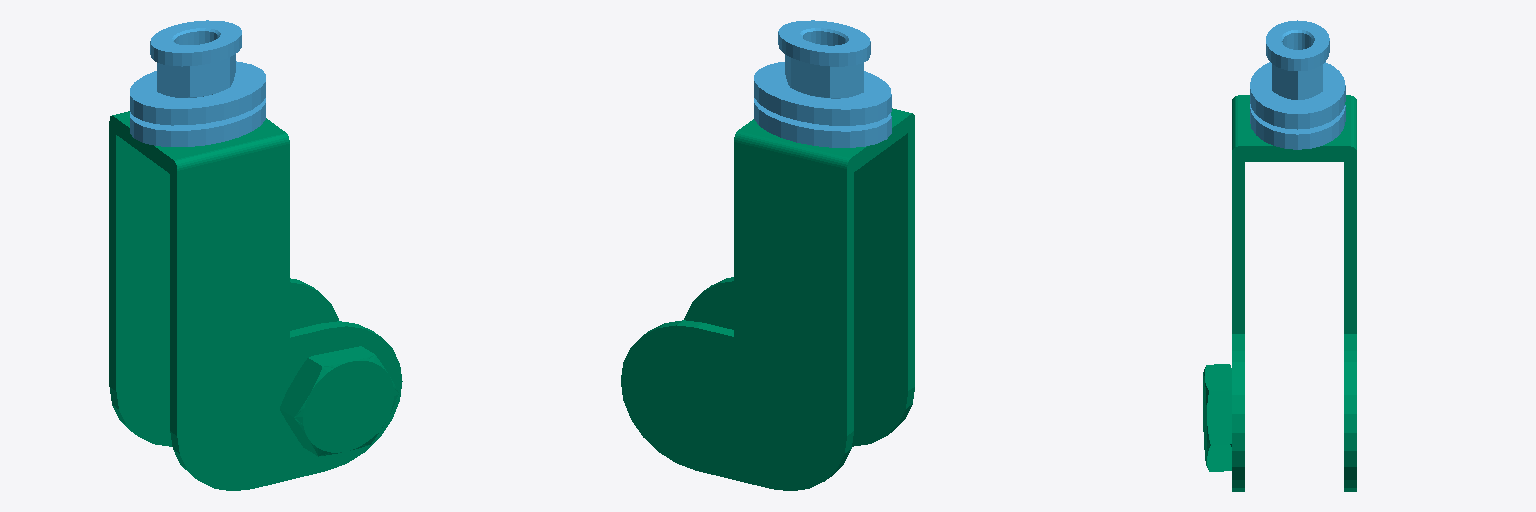
--- What the picture shows (computed from the rendered views, not written in the file) ---
3 views of the same robot in one strip: view 1: azimuth 30°, elevation 25°; view 2: azimuth 150°, elevation 25°; view 3: azimuth 270°, elevation 25° (orthographic).
Model partnet_464e9b98-d955-4597-b746-4e8b73eab34b with 3 links and 2 joints (1 prismatic, 1 fixed), rooted at base, posed every joint at zero.
Visible links, largest first — view 1: link_1, link_0; view 2: link_1, link_0; view 3: link_1, link_0.
Link boxes in pixels (x1,y1,x2,y2): link_1: [109, 111, 402, 490]; link_0: [130, 20, 265, 146]; link_1: [621, 108, 914, 490]; link_0: [754, 20, 891, 147]; link_1: [1203, 95, 1356, 491]; link_0: [1250, 20, 1345, 149].
Size in the robot's own frame: 0.1111 by 0.069 by 0.1967 metres.
5 mesh visuals loaded from 6 distinct referenced files (5 OBJ); not drawn: 1 (reference not matched to a file when rendering).

URDF robot description (partnet_464e9b98-d955-4597-b746-4e8b73eab34b):
<robot name="partnet_464e9b98-d955-4597-b746-4e8b73eab34b">
	<link name="base" />
	<link name="link_0">
		<collision>
			<origin xyz="0 0 0" />
			<geometry>
				<mesh filename="new5_objs/lid-1-0.obj" />
			</geometry>
		</collision>
		<collision>
			<origin xyz="0 0 0" />
			<geometry>
				<mesh filename="new5_objs/lid-1-1.obj" />
			</geometry>
		</collision>
		<collision>
			<origin xyz="0 0 0" />
			<geometry>
				<mesh filename="new5_objs/lid-1-2.obj" />
			</geometry>
		</collision>
		<collision>
			<origin xyz="0 0 0" />
			<geometry>
				<mesh filename="new5_objs/lid-1-3.obj" />
			</geometry>
		</collision>
		<collision>
			<origin xyz="0 0 0" />
			<geometry>
				<mesh filename="new5_objs/lid-1-4.obj" />
			</geometry>
		</collision>
		<collision>
			<origin xyz="0 0 0" />
			<geometry>
				<mesh filename="new5_objs/lid-1-5.obj" />
			</geometry>
		</collision>
		<collision>
			<origin xyz="0 0 0" />
			<geometry>
				<mesh filename="new5_objs/lid-1-6.obj" />
			</geometry>
		</collision>
		<collision>
			<origin xyz="0 0 0" />
			<geometry>
				<mesh filename="new5_objs/lid-1-7.obj" />
			</geometry>
		</collision>
		<collision>
			<origin xyz="0 0 0" />
			<geometry>
				<mesh filename="new5_objs/lid-1-8.obj" />
			</geometry>
		</collision>
		<collision>
			<origin xyz="0 0 0" />
			<geometry>
				<mesh filename="new5_objs/lid-1-9.obj" />
			</geometry>
		</collision>
		<collision>
			<origin xyz="0 0 0" />
			<geometry>
				<mesh filename="new5_objs/lid-1-10.obj" />
			</geometry>
		</collision>
		<collision>
			<origin xyz="0 0 0" />
			<geometry>
				<mesh filename="new5_objs/lid-1-11.obj" />
			</geometry>
		</collision>
		<collision>
			<origin xyz="0 0 0" />
			<geometry>
				<mesh filename="new5_objs/lid-1-12.obj" />
			</geometry>
		</collision>
		<collision>
			<origin xyz="0 0 0" />
			<geometry>
				<mesh filename="new5_objs/lid-1-13.obj" />
			</geometry>
		</collision>
		<collision>
			<origin xyz="0 0 0" />
			<geometry>
				<mesh filename="new5_objs/lid-1-14.obj" />
			</geometry>
		</collision>
		<collision>
			<origin xyz="0 0 0" />
			<geometry>
				<mesh filename="new5_objs/lid-1-15.obj" />
			</geometry>
		</collision>
		<collision>
			<origin xyz="0 0 0" />
			<geometry>
				<mesh filename="new5_objs/lid-1-16.obj" />
			</geometry>
		</collision>
		<collision>
			<origin xyz="0 0 0" />
			<geometry>
				<mesh filename="new5_objs/lid-1-17.obj" />
			</geometry>
		</collision>
		<collision>
			<origin xyz="0 0 0" />
			<geometry>
				<mesh filename="new5_objs/lid-1-18.obj" />
			</geometry>
		</collision>
		<collision>
			<origin xyz="0 0 0" />
			<geometry>
				<mesh filename="new5_objs/lid-1-19.obj" />
			</geometry>
		</collision>
		<collision>
			<origin xyz="0 0 0" />
			<geometry>
				<mesh filename="new5_objs/lid-1-20.obj" />
			</geometry>
		</collision>
		<collision>
			<origin xyz="0 0 0" />
			<geometry>
				<mesh filename="new5_objs/lid-1-21.obj" />
			</geometry>
		</collision>
		<collision>
			<origin xyz="0 0 0" />
			<geometry>
				<mesh filename="new5_objs/lid-1-22.obj" />
			</geometry>
		</collision>
		<collision>
			<origin xyz="0 0 0" />
			<geometry>
				<mesh filename="new5_objs/lid-1-23.obj" />
			</geometry>
		</collision>
		<collision>
			<origin xyz="0 0 0" />
			<geometry>
				<mesh filename="new5_objs/lid-1-24.obj" />
			</geometry>
		</collision>
		<collision>
			<origin xyz="0 0 0" />
			<geometry>
				<mesh filename="new5_objs/lid-1-25.obj" />
			</geometry>
		</collision>
		<collision>
			<origin xyz="0 0 0" />
			<geometry>
				<mesh filename="new5_objs/lid-1-26.obj" />
			</geometry>
		</collision>
		<collision>
			<origin xyz="0 0 0" />
			<geometry>
				<mesh filename="new5_objs/lid-1-27.obj" />
			</geometry>
		</collision>
		<collision>
			<origin xyz="0 0 0" />
			<geometry>
				<mesh filename="new5_objs/lid-1-28.obj" />
			</geometry>
		</collision>
		<collision>
			<origin xyz="0 0 0" />
			<geometry>
				<mesh filename="new5_objs/lid-1-29.obj" />
			</geometry>
		</collision>
		<collision>
			<origin xyz="0 0 0" />
			<geometry>
				<mesh filename="new5_objs/lid-1-30.obj" />
			</geometry>
		</collision>
		<collision>
			<origin xyz="0 0 0" />
			<geometry>
				<mesh filename="new5_objs/lid-1-31.obj" />
			</geometry>
		</collision>
		<collision>
			<origin xyz="0 0 0" />
			<geometry>
				<mesh filename="new5_objs/lid-1-32.obj" />
			</geometry>
		</collision>
		<collision>
			<origin xyz="0 0 0" />
			<geometry>
				<mesh filename="new5_objs/lid-1-33.obj" />
			</geometry>
		</collision>
		<collision>
			<origin xyz="0 0 0" />
			<geometry>
				<mesh filename="new5_objs/lid-1-34.obj" />
			</geometry>
		</collision>
		<collision>
			<origin xyz="0 0 0" />
			<geometry>
				<mesh filename="new5_objs/lid-1-35.obj" />
			</geometry>
		</collision>
		<collision>
			<origin xyz="0 0 0" />
			<geometry>
				<mesh filename="new5_objs/lid-1-36.obj" />
			</geometry>
		</collision>
		<collision>
			<origin xyz="0 0 0" />
			<geometry>
				<mesh filename="new5_objs/lid-1-37.obj" />
			</geometry>
		</collision>
		<collision>
			<origin xyz="0 0 0" />
			<geometry>
				<mesh filename="new5_objs/lid-1-38.obj" />
			</geometry>
		</collision>
		<collision>
			<origin xyz="0 0 0" />
			<geometry>
				<mesh filename="new5_objs/lid-1-39.obj" />
			</geometry>
		</collision>
		<collision>
			<origin xyz="0 0 0" />
			<geometry>
				<mesh filename="new5_objs/lid-1-40.obj" />
			</geometry>
		</collision>
		<collision>
			<origin xyz="0 0 0" />
			<geometry>
				<mesh filename="new5_objs/lid-1-41.obj" />
			</geometry>
		</collision>
		<collision>
			<origin xyz="0 0 0" />
			<geometry>
				<mesh filename="new5_objs/lid-1-42.obj" />
			</geometry>
		</collision>
		<collision>
			<origin xyz="0 0 0" />
			<geometry>
				<mesh filename="new5_objs/lid-1-43.obj" />
			</geometry>
		</collision>
		<collision>
			<origin xyz="0 0 0" />
			<geometry>
				<mesh filename="new5_objs/lid-1-44.obj" />
			</geometry>
		</collision>
		<collision>
			<origin xyz="0 0 0" />
			<geometry>
				<mesh filename="new5_objs/lid-1-45.obj" />
			</geometry>
		</collision>
		<collision>
			<origin xyz="0 0 0" />
			<geometry>
				<mesh filename="new5_objs/lid-1-46.obj" />
			</geometry>
		</collision>
		<collision>
			<origin xyz="0 0 0" />
			<geometry>
				<mesh filename="new5_objs/lid-1-47.obj" />
			</geometry>
		</collision>
		<collision>
			<origin xyz="0 0 0" />
			<geometry>
				<mesh filename="new5_objs/lid-1-48.obj" />
			</geometry>
		</collision>
		<collision>
			<origin xyz="0 0 0" />
			<geometry>
				<mesh filename="new5_objs/lid-1-49.obj" />
			</geometry>
		</collision>
		<collision>
			<origin xyz="0 0 0" />
			<geometry>
				<mesh filename="new5_objs/lid-1-50.obj" />
			</geometry>
		</collision>
		<collision>
			<origin xyz="0 0 0" />
			<geometry>
				<mesh filename="new5_objs/lid-1-51.obj" />
			</geometry>
		</collision>
		<collision>
			<origin xyz="0 0 0" />
			<geometry>
				<mesh filename="new5_objs/lid-1-52.obj" />
			</geometry>
		</collision>
		<collision>
			<origin xyz="0 0 0" />
			<geometry>
				<mesh filename="new5_objs/lid-1-53.obj" />
			</geometry>
		</collision>
		<collision>
			<origin xyz="0 0 0" />
			<geometry>
				<mesh filename="new5_objs/lid-1-54.obj" />
			</geometry>
		</collision>
		<collision>
			<origin xyz="0 0 0" />
			<geometry>
				<mesh filename="new5_objs/lid-1-55.obj" />
			</geometry>
		</collision>
		<collision>
			<origin xyz="0 0 0" />
			<geometry>
				<mesh filename="new5_objs/lid-1-56.obj" />
			</geometry>
		</collision>
		<collision>
			<origin xyz="0 0 0" />
			<geometry>
				<mesh filename="new5_objs/lid-1-57.obj" />
			</geometry>
		</collision>
		<collision>
			<origin xyz="0 0 0" />
			<geometry>
				<mesh filename="new5_objs/lid-1-58.obj" />
			</geometry>
		</collision>
		<collision>
			<origin xyz="0 0 0" />
			<geometry>
				<mesh filename="new5_objs/lid-1-59.obj" />
			</geometry>
		</collision>
		<collision>
			<origin xyz="0 0 0" />
			<geometry>
				<mesh filename="new5_objs/lid-1-60.obj" />
			</geometry>
		</collision>
		<collision>
			<origin xyz="0 0 0" />
			<geometry>
				<mesh filename="new5_objs/lid-1-61.obj" />
			</geometry>
		</collision>
		<collision>
			<origin xyz="0 0 0" />
			<geometry>
				<mesh filename="new5_objs/lid-1-62.obj" />
			</geometry>
		</collision>
		<collision>
			<origin xyz="0 0 0" />
			<geometry>
				<mesh filename="new5_objs/lid-1-63.obj" />
			</geometry>
		</collision>
		<collision>
			<origin xyz="0 0 0" />
			<geometry>
				<mesh filename="new5_objs/lid-1-64.obj" />
			</geometry>
		</collision>
		<collision>
			<origin xyz="0 0 0" />
			<geometry>
				<mesh filename="new5_objs/lid-1-65.obj" />
			</geometry>
		</collision>
		<collision>
			<origin xyz="0 0 0" />
			<geometry>
				<mesh filename="new5_objs/lid-1-66.obj" />
			</geometry>
		</collision>
		<collision>
			<origin xyz="0 0 0" />
			<geometry>
				<mesh filename="new5_objs/lid-1-67.obj" />
			</geometry>
		</collision>
		<collision>
			<origin xyz="0 0 0" />
			<geometry>
				<mesh filename="new5_objs/lid-1-68.obj" />
			</geometry>
		</collision>
		<collision>
			<origin xyz="0 0 0" />
			<geometry>
				<mesh filename="new5_objs/lid-1-69.obj" />
			</geometry>
		</collision>
		<collision>
			<origin xyz="0 0 0" />
			<geometry>
				<mesh filename="new5_objs/lid-1-70.obj" />
			</geometry>
		</collision>
		<collision>
			<origin xyz="0 0 0" />
			<geometry>
				<mesh filename="new5_objs/lid-1-71.obj" />
			</geometry>
		</collision>
		<collision>
			<origin xyz="0 0 0" />
			<geometry>
				<mesh filename="new5_objs/lid-1-72.obj" />
			</geometry>
		</collision>
		<collision>
			<origin xyz="0 0 0" />
			<geometry>
				<mesh filename="new5_objs/lid-1-73.obj" />
			</geometry>
		</collision>
		<collision>
			<origin xyz="0 0 0" />
			<geometry>
				<mesh filename="new5_objs/lid-1-74.obj" />
			</geometry>
		</collision>
		<collision>
			<origin xyz="0 0 0" />
			<geometry>
				<mesh filename="new5_objs/lid-1-75.obj" />
			</geometry>
		</collision>
		<collision>
			<origin xyz="0 0 0" />
			<geometry>
				<mesh filename="new5_objs/lid-1-76.obj" />
			</geometry>
		</collision>
		<collision>
			<origin xyz="0 0 0" />
			<geometry>
				<mesh filename="new5_objs/lid-1-77.obj" />
			</geometry>
		</collision>
		<collision>
			<origin xyz="0 0 0" />
			<geometry>
				<mesh filename="new5_objs/lid-1-78.obj" />
			</geometry>
		</collision>
		<collision>
			<origin xyz="0 0 0" />
			<geometry>
				<mesh filename="new5_objs/lid-1-79.obj" />
			</geometry>
		</collision>
		<collision>
			<origin xyz="0 0 0" />
			<geometry>
				<mesh filename="new5_objs/lid-1-80.obj" />
			</geometry>
		</collision>
		<collision>
			<origin xyz="0 0 0" />
			<geometry>
				<mesh filename="new5_objs/lid-1-81.obj" />
			</geometry>
		</collision>
		<collision>
			<origin xyz="0 0 0" />
			<geometry>
				<mesh filename="new5_objs/lid-1-82.obj" />
			</geometry>
		</collision>
		<collision>
			<origin xyz="0 0 0" />
			<geometry>
				<mesh filename="new5_objs/lid-1-83.obj" />
			</geometry>
		</collision>
		<collision>
			<origin xyz="0 0 0" />
			<geometry>
				<mesh filename="new5_objs/lid-1-84.obj" />
			</geometry>
		</collision>
		<collision>
			<origin xyz="0 0 0" />
			<geometry>
				<mesh filename="new5_objs/lid-1-85.obj" />
			</geometry>
		</collision>
		<collision>
			<origin xyz="0 0 0" />
			<geometry>
				<mesh filename="new5_objs/lid-1-86.obj" />
			</geometry>
		</collision>
		<collision>
			<origin xyz="0 0 0" />
			<geometry>
				<mesh filename="new5_objs/lid-1-87.obj" />
			</geometry>
		</collision>
		<collision>
			<origin xyz="0 0 0" />
			<geometry>
				<mesh filename="new5_objs/lid-1-88.obj" />
			</geometry>
		</collision>
		<collision>
			<origin xyz="0 0 0" />
			<geometry>
				<mesh filename="new5_objs/lid-1-89.obj" />
			</geometry>
		</collision>
		<collision>
			<origin xyz="0 0 0" />
			<geometry>
				<mesh filename="new5_objs/lid-1-90.obj" />
			</geometry>
		</collision>
		<collision>
			<origin xyz="0 0 0" />
			<geometry>
				<mesh filename="new5_objs/lid-1-91.obj" />
			</geometry>
		</collision>
		<collision>
			<origin xyz="0 0 0" />
			<geometry>
				<mesh filename="new5_objs/lid-1-92.obj" />
			</geometry>
		</collision>
		<collision>
			<origin xyz="0 0 0" />
			<geometry>
				<mesh filename="new5_objs/lid-1-93.obj" />
			</geometry>
		</collision>
		<collision>
			<origin xyz="0 0 0" />
			<geometry>
				<mesh filename="new5_objs/lid-1-94.obj" />
			</geometry>
		</collision>
		<collision>
			<origin xyz="0 0 0" />
			<geometry>
				<mesh filename="new5_objs/lid-1-95.obj" />
			</geometry>
		</collision>
		<collision>
			<origin xyz="0 0 0" />
			<geometry>
				<mesh filename="new5_objs/lid-1-96.obj" />
			</geometry>
		</collision>
		<collision>
			<origin xyz="0 0 0" />
			<geometry>
				<mesh filename="new5_objs/lid-1-97.obj" />
			</geometry>
		</collision>
		<collision>
			<origin xyz="0 0 0" />
			<geometry>
				<mesh filename="new5_objs/lid-1-98.obj" />
			</geometry>
		</collision>
		<collision>
			<origin xyz="0 0 0" />
			<geometry>
				<mesh filename="new5_objs/lid-1-99.obj" />
			</geometry>
		</collision>
		<collision>
			<origin xyz="0 0 0" />
			<geometry>
				<mesh filename="new5_objs/lid-1-100.obj" />
			</geometry>
		</collision>
		<collision>
			<origin xyz="0 0 0" />
			<geometry>
				<mesh filename="new5_objs/lid-1-101.obj" />
			</geometry>
		</collision>
		<collision>
			<origin xyz="0 0 0" />
			<geometry>
				<mesh filename="new5_objs/lid-1-102.obj" />
			</geometry>
		</collision>
		<collision>
			<origin xyz="0 0 0" />
			<geometry>
				<mesh filename="new5_objs/lid-1-103.obj" />
			</geometry>
		</collision>
		<collision>
			<origin xyz="0 0 0" />
			<geometry>
				<mesh filename="new5_objs/lid-1-104.obj" />
			</geometry>
		</collision>
		<collision>
			<origin xyz="0 0 0" />
			<geometry>
				<mesh filename="new5_objs/lid-1-105.obj" />
			</geometry>
		</collision>
		<collision>
			<origin xyz="0 0 0" />
			<geometry>
				<mesh filename="new5_objs/lid-1-106.obj" />
			</geometry>
		</collision>
		<collision>
			<origin xyz="0 0 0" />
			<geometry>
				<mesh filename="new5_objs/lid-1-107.obj" />
			</geometry>
		</collision>
		<collision>
			<origin xyz="0 0 0" />
			<geometry>
				<mesh filename="new5_objs/lid-1-108.obj" />
			</geometry>
		</collision>
		<collision>
			<origin xyz="0 0 0" />
			<geometry>
				<mesh filename="new5_objs/lid-1-109.obj" />
			</geometry>
		</collision>
		<collision>
			<origin xyz="0 0 0" />
			<geometry>
				<mesh filename="new5_objs/lid-1-110.obj" />
			</geometry>
		</collision>
		<collision>
			<origin xyz="0 0 0" />
			<geometry>
				<mesh filename="new5_objs/lid-1-111.obj" />
			</geometry>
		</collision>
		<collision>
			<origin xyz="0 0 0" />
			<geometry>
				<mesh filename="new5_objs/lid-1-112.obj" />
			</geometry>
		</collision>
		<collision>
			<origin xyz="0 0 0" />
			<geometry>
				<mesh filename="new5_objs/lid-1-113.obj" />
			</geometry>
		</collision>
		<collision>
			<origin xyz="0 0 0" />
			<geometry>
				<mesh filename="new5_objs/lid-1-114.obj" />
			</geometry>
		</collision>
		<collision>
			<origin xyz="0 0 0" />
			<geometry>
				<mesh filename="new5_objs/lid-1-115.obj" />
			</geometry>
		</collision>
		<collision>
			<origin xyz="0 0 0" />
			<geometry>
				<mesh filename="new5_objs/lid-1-116.obj" />
			</geometry>
		</collision>
		<collision>
			<origin xyz="0 0 0" />
			<geometry>
				<mesh filename="new5_objs/lid-1-117.obj" />
			</geometry>
		</collision>
		<collision>
			<origin xyz="0 0 0" />
			<geometry>
				<mesh filename="new5_objs/lid-1-118.obj" />
			</geometry>
		</collision>
		<collision>
			<origin xyz="0 0 0" />
			<geometry>
				<mesh filename="new5_objs/lid-1-119.obj" />
			</geometry>
		</collision>
		<collision>
			<origin xyz="0 0 0" />
			<geometry>
				<mesh filename="new5_objs/lid-1-120.obj" />
			</geometry>
		</collision>
		<collision>
			<origin xyz="0 0 0" />
			<geometry>
				<mesh filename="new5_objs/lid-1-121.obj" />
			</geometry>
		</collision>
		<collision>
			<origin xyz="0 0 0" />
			<geometry>
				<mesh filename="new5_objs/lid-1-122.obj" />
			</geometry>
		</collision>
		<collision>
			<origin xyz="0 0 0" />
			<geometry>
				<mesh filename="new5_objs/lid-1-123.obj" />
			</geometry>
		</collision>
		<collision>
			<origin xyz="0 0 0" />
			<geometry>
				<mesh filename="new5_objs/lid-1-124.obj" />
			</geometry>
		</collision>
		<collision>
			<origin xyz="0 0 0" />
			<geometry>
				<mesh filename="new5_objs/lid-1-125.obj" />
			</geometry>
		</collision>
		<collision>
			<origin xyz="0 0 0" />
			<geometry>
				<mesh filename="new5_objs/lid-1-126.obj" />
			</geometry>
		</collision>
		<collision>
			<origin xyz="0 0 0" />
			<geometry>
				<mesh filename="new5_objs/lid-1-127.obj" />
			</geometry>
		</collision>
		<collision>
			<origin xyz="0 0 0" />
			<geometry>
				<mesh filename="new5_objs/lid-1-128.obj" />
			</geometry>
		</collision>
		<collision>
			<origin xyz="0 0 0" />
			<geometry>
				<mesh filename="new5_objs/lid-1-129.obj" />
			</geometry>
		</collision>
		<collision>
			<origin xyz="0 0 0" />
			<geometry>
				<mesh filename="new5_objs/lid-1-130.obj" />
			</geometry>
		</collision>
		<collision>
			<origin xyz="0 0 0" />
			<geometry>
				<mesh filename="new5_objs/lid-1-131.obj" />
			</geometry>
		</collision>
		<collision>
			<origin xyz="0 0 0" />
			<geometry>
				<mesh filename="new5_objs/lid-1-132.obj" />
			</geometry>
		</collision>
		<collision>
			<origin xyz="0 0 0" />
			<geometry>
				<mesh filename="new5_objs/lid-1-133.obj" />
			</geometry>
		</collision>
		<collision>
			<origin xyz="0 0 0" />
			<geometry>
				<mesh filename="new5_objs/lid-1-134.obj" />
			</geometry>
		</collision>
		<collision>
			<origin xyz="0 0 0" />
			<geometry>
				<mesh filename="new5_objs/lid-1-135.obj" />
			</geometry>
		</collision>
		<collision>
			<origin xyz="0 0 0" />
			<geometry>
				<mesh filename="new5_objs/lid-1-136.obj" />
			</geometry>
		</collision>
		<collision>
			<origin xyz="0 0 0" />
			<geometry>
				<mesh filename="new5_objs/lid-1-137.obj" />
			</geometry>
		</collision>
		<collision>
			<origin xyz="0 0 0" />
			<geometry>
				<mesh filename="new5_objs/lid-1-138.obj" />
			</geometry>
		</collision>
		<collision>
			<origin xyz="0 0 0" />
			<geometry>
				<mesh filename="new5_objs/lid-1-139.obj" />
			</geometry>
		</collision>
		<collision>
			<origin xyz="0 0 0" />
			<geometry>
				<mesh filename="new5_objs/lid-1-140.obj" />
			</geometry>
		</collision>
		<collision>
			<origin xyz="0 0 0" />
			<geometry>
				<mesh filename="new5_objs/lid-1-141.obj" />
			</geometry>
		</collision>
		<collision>
			<origin xyz="0 0 0" />
			<geometry>
				<mesh filename="new5_objs/lid-1-142.obj" />
			</geometry>
		</collision>
		<collision>
			<origin xyz="0 0 0" />
			<geometry>
				<mesh filename="new5_objs/lid-1-143.obj" />
			</geometry>
		</collision>
		<collision>
			<origin xyz="0 0 0" />
			<geometry>
				<mesh filename="new5_objs/lid-1-144.obj" />
			</geometry>
		</collision>
		<collision>
			<origin xyz="0 0 0" />
			<geometry>
				<mesh filename="new5_objs/lid-1-145.obj" />
			</geometry>
		</collision>
		<collision>
			<origin xyz="0 0 0" />
			<geometry>
				<mesh filename="new5_objs/lid-1-146.obj" />
			</geometry>
		</collision>
		<collision>
			<origin xyz="0 0 0" />
			<geometry>
				<mesh filename="new5_objs/lid-1-147.obj" />
			</geometry>
		</collision>
		<collision>
			<origin xyz="0 0 0" />
			<geometry>
				<mesh filename="new5_objs/lid-1-148.obj" />
			</geometry>
		</collision>
		<collision>
			<origin xyz="0 0 0" />
			<geometry>
				<mesh filename="new5_objs/lid-1-149.obj" />
			</geometry>
		</collision>
		<collision>
			<origin xyz="0 0 0" />
			<geometry>
				<mesh filename="new5_objs/lid-1-150.obj" />
			</geometry>
		</collision>
		<collision>
			<origin xyz="0 0 0" />
			<geometry>
				<mesh filename="new5_objs/lid-1-151.obj" />
			</geometry>
		</collision>
		<collision>
			<origin xyz="0 0 0" />
			<geometry>
				<mesh filename="new5_objs/lid-1-152.obj" />
			</geometry>
		</collision>
		<collision>
			<origin xyz="0 0 0" />
			<geometry>
				<mesh filename="new5_objs/lid-1-153.obj" />
			</geometry>
		</collision>
		<collision>
			<origin xyz="0 0 0" />
			<geometry>
				<mesh filename="new5_objs/lid-1-154.obj" />
			</geometry>
		</collision>
		<collision>
			<origin xyz="0 0 0" />
			<geometry>
				<mesh filename="new5_objs/lid-1-155.obj" />
			</geometry>
		</collision>
		<collision>
			<origin xyz="0 0 0" />
			<geometry>
				<mesh filename="new5_objs/lid-1-156.obj" />
			</geometry>
		</collision>
		<collision>
			<origin xyz="0 0 0" />
			<geometry>
				<mesh filename="new5_objs/lid-1-157.obj" />
			</geometry>
		</collision>
		<collision>
			<origin xyz="0 0 0" />
			<geometry>
				<mesh filename="new5_objs/lid-1-158.obj" />
			</geometry>
		</collision>
		<collision>
			<origin xyz="0 0 0" />
			<geometry>
				<mesh filename="new5_objs/lid-1-159.obj" />
			</geometry>
		</collision>
		<collision>
			<origin xyz="0 0 0" />
			<geometry>
				<mesh filename="new5_objs/lid-1-160.obj" />
			</geometry>
		</collision>
		<collision>
			<origin xyz="0 0 0" />
			<geometry>
				<mesh filename="new5_objs/lid-1-161.obj" />
			</geometry>
		</collision>
		<collision>
			<origin xyz="0 0 0" />
			<geometry>
				<mesh filename="new5_objs/lid-1-162.obj" />
			</geometry>
		</collision>
		<collision>
			<origin xyz="0 0 0" />
			<geometry>
				<mesh filename="new5_objs/lid-1-163.obj" />
			</geometry>
		</collision>
		<collision>
			<origin xyz="0 0 0" />
			<geometry>
				<mesh filename="new5_objs/lid-1-164.obj" />
			</geometry>
		</collision>
		<collision>
			<origin xyz="0 0 0" />
			<geometry>
				<mesh filename="new5_objs/lid-1-165.obj" />
			</geometry>
		</collision>
		<collision>
			<origin xyz="0 0 0" />
			<geometry>
				<mesh filename="new5_objs/lid-1-166.obj" />
			</geometry>
		</collision>
		<collision>
			<origin xyz="0 0 0" />
			<geometry>
				<mesh filename="new5_objs/lid-1-167.obj" />
			</geometry>
		</collision>
		<collision>
			<origin xyz="0 0 0" />
			<geometry>
				<mesh filename="new5_objs/lid-1-168.obj" />
			</geometry>
		</collision>
		<collision>
			<origin xyz="0 0 0" />
			<geometry>
				<mesh filename="new5_objs/lid-1-169.obj" />
			</geometry>
		</collision>
		<collision>
			<origin xyz="0 0 0" />
			<geometry>
				<mesh filename="new5_objs/lid-1-170.obj" />
			</geometry>
		</collision>
		<collision>
			<origin xyz="0 0 0" />
			<geometry>
				<mesh filename="new5_objs/lid-1-171.obj" />
			</geometry>
		</collision>
		<collision>
			<origin xyz="0 0 0" />
			<geometry>
				<mesh filename="new5_objs/lid-1-172.obj" />
			</geometry>
		</collision>
		<collision>
			<origin xyz="0 0 0" />
			<geometry>
				<mesh filename="new5_objs/lid-1-173.obj" />
			</geometry>
		</collision>
		<collision>
			<origin xyz="0 0 0" />
			<geometry>
				<mesh filename="new5_objs/lid-1-174.obj" />
			</geometry>
		</collision>
		<collision>
			<origin xyz="0 0 0" />
			<geometry>
				<mesh filename="new5_objs/lid-1-175.obj" />
			</geometry>
		</collision>
		<collision>
			<origin xyz="0 0 0" />
			<geometry>
				<mesh filename="new5_objs/lid-1-176.obj" />
			</geometry>
		</collision>
		<collision>
			<origin xyz="0 0 0" />
			<geometry>
				<mesh filename="new5_objs/lid-1-177.obj" />
			</geometry>
		</collision>
		<collision>
			<origin xyz="0 0 0" />
			<geometry>
				<mesh filename="new5_objs/lid-1-178.obj" />
			</geometry>
		</collision>
		<collision>
			<origin xyz="0 0 0" />
			<geometry>
				<mesh filename="new5_objs/lid-1-179.obj" />
			</geometry>
		</collision>
		<collision>
			<origin xyz="0 0 0" />
			<geometry>
				<mesh filename="new5_objs/lid-1-180.obj" />
			</geometry>
		</collision>
		<collision>
			<origin xyz="0 0 0" />
			<geometry>
				<mesh filename="new5_objs/lid-1-181.obj" />
			</geometry>
		</collision>
		<collision>
			<origin xyz="0 0 0" />
			<geometry>
				<mesh filename="new5_objs/lid-1-182.obj" />
			</geometry>
		</collision>
		<collision>
			<origin xyz="0 0 0" />
			<geometry>
				<mesh filename="new5_objs/lid-1-183.obj" />
			</geometry>
		</collision>
		<collision>
			<origin xyz="0 0 0" />
			<geometry>
				<mesh filename="new5_objs/lid-1-184.obj" />
			</geometry>
		</collision>
		<collision>
			<origin xyz="0 0 0" />
			<geometry>
				<mesh filename="new5_objs/lid-1-185.obj" />
			</geometry>
		</collision>
		<collision>
			<origin xyz="0 0 0" />
			<geometry>
				<mesh filename="new5_objs/lid-1-186.obj" />
			</geometry>
		</collision>
		<collision>
			<origin xyz="0 0 0" />
			<geometry>
				<mesh filename="new5_objs/lid-1-187.obj" />
			</geometry>
		</collision>
		<collision>
			<origin xyz="0 0 0" />
			<geometry>
				<mesh filename="new5_objs/lid-1-188.obj" />
			</geometry>
		</collision>
		<collision>
			<origin xyz="0 0 0" />
			<geometry>
				<mesh filename="new5_objs/lid-1-189.obj" />
			</geometry>
		</collision>
		<collision>
			<origin xyz="0 0 0" />
			<geometry>
				<mesh filename="new5_objs/lid-1-190.obj" />
			</geometry>
		</collision>
		<collision>
			<origin xyz="0 0 0" />
			<geometry>
				<mesh filename="new5_objs/lid-1-191.obj" />
			</geometry>
		</collision>
		<collision>
			<origin xyz="0 0 0" />
			<geometry>
				<mesh filename="new5_objs/lid-1-192.obj" />
			</geometry>
		</collision>
		<collision>
			<origin xyz="0 0 0" />
			<geometry>
				<mesh filename="new5_objs/lid-1-193.obj" />
			</geometry>
		</collision>
		<collision>
			<origin xyz="0 0 0" />
			<geometry>
				<mesh filename="new5_objs/lid-1-194.obj" />
			</geometry>
		</collision>
		<collision>
			<origin xyz="0 0 0" />
			<geometry>
				<mesh filename="new5_objs/lid-1-195.obj" />
			</geometry>
		</collision>
		<collision>
			<origin xyz="0 0 0" />
			<geometry>
				<mesh filename="new5_objs/lid-1-196.obj" />
			</geometry>
		</collision>
		<collision>
			<origin xyz="0 0 0" />
			<geometry>
				<mesh filename="new5_objs/lid-1-197.obj" />
			</geometry>
		</collision>
		<collision>
			<origin xyz="0 0 0" />
			<geometry>
				<mesh filename="new5_objs/lid-1-198.obj" />
			</geometry>
		</collision>
		<collision>
			<origin xyz="0 0 0" />
			<geometry>
				<mesh filename="new5_objs/lid-1-199.obj" />
			</geometry>
		</collision>
		<collision>
			<origin xyz="0 0 0" />
			<geometry>
				<mesh filename="new5_objs/lid-1-200.obj" />
			</geometry>
		</collision>
		<collision>
			<origin xyz="0 0 0" />
			<geometry>
				<mesh filename="new5_objs/lid-1-201.obj" />
			</geometry>
		</collision>
		<collision>
			<origin xyz="0 0 0" />
			<geometry>
				<mesh filename="new5_objs/lid-1-202.obj" />
			</geometry>
		</collision>
		<collision>
			<origin xyz="0 0 0" />
			<geometry>
				<mesh filename="new5_objs/lid-1-203.obj" />
			</geometry>
		</collision>
		<collision>
			<origin xyz="0 0 0" />
			<geometry>
				<mesh filename="new5_objs/lid-1-204.obj" />
			</geometry>
		</collision>
		<collision>
			<origin xyz="0 0 0" />
			<geometry>
				<mesh filename="new5_objs/lid-1-205.obj" />
			</geometry>
		</collision>
		<collision>
			<origin xyz="0 0 0" />
			<geometry>
				<mesh filename="new5_objs/lid-1-206.obj" />
			</geometry>
		</collision>
		<collision>
			<origin xyz="0 0 0" />
			<geometry>
				<mesh filename="new5_objs/lid-1-207.obj" />
			</geometry>
		</collision>
		<collision>
			<origin xyz="0 0 0" />
			<geometry>
				<mesh filename="new5_objs/lid-1-208.obj" />
			</geometry>
		</collision>
		<collision>
			<origin xyz="0 0 0" />
			<geometry>
				<mesh filename="new5_objs/lid-1-209.obj" />
			</geometry>
		</collision>
		<collision>
			<origin xyz="0 0 0" />
			<geometry>
				<mesh filename="new5_objs/lid-1-210.obj" />
			</geometry>
		</collision>
		<collision>
			<origin xyz="0 0 0" />
			<geometry>
				<mesh filename="new5_objs/lid-1-211.obj" />
			</geometry>
		</collision>
		<collision>
			<origin xyz="0 0 0" />
			<geometry>
				<mesh filename="new5_objs/lid-1-212.obj" />
			</geometry>
		</collision>
		<collision>
			<origin xyz="0 0 0" />
			<geometry>
				<mesh filename="new5_objs/lid-1-213.obj" />
			</geometry>
		</collision>
		<collision>
			<origin xyz="0 0 0" />
			<geometry>
				<mesh filename="new5_objs/lid-1-214.obj" />
			</geometry>
		</collision>
		<collision>
			<origin xyz="0 0 0" />
			<geometry>
				<mesh filename="new5_objs/lid-1-215.obj" />
			</geometry>
		</collision>
		<collision>
			<origin xyz="0 0 0" />
			<geometry>
				<mesh filename="new5_objs/lid-1-216.obj" />
			</geometry>
		</collision>
		<collision>
			<origin xyz="0 0 0" />
			<geometry>
				<mesh filename="new5_objs/lid-1-217.obj" />
			</geometry>
		</collision>
		<collision>
			<origin xyz="0 0 0" />
			<geometry>
				<mesh filename="new5_objs/lid-1-218.obj" />
			</geometry>
		</collision>
		<collision>
			<origin xyz="0 0 0" />
			<geometry>
				<mesh filename="new5_objs/lid-1-219.obj" />
			</geometry>
		</collision>
		<collision>
			<origin xyz="0 0 0" />
			<geometry>
				<mesh filename="new5_objs/lid-1-220.obj" />
			</geometry>
		</collision>
		<collision>
			<origin xyz="0 0 0" />
			<geometry>
				<mesh filename="new5_objs/lid-1-221.obj" />
			</geometry>
		</collision>
		<collision>
			<origin xyz="0 0 0" />
			<geometry>
				<mesh filename="new5_objs/lid-1-222.obj" />
			</geometry>
		</collision>
		<collision>
			<origin xyz="0 0 0" />
			<geometry>
				<mesh filename="new5_objs/lid-1-223.obj" />
			</geometry>
		</collision>
		<collision>
			<origin xyz="0 0 0" />
			<geometry>
				<mesh filename="new5_objs/lid-1-224.obj" />
			</geometry>
		</collision>
		<collision>
			<origin xyz="0 0 0" />
			<geometry>
				<mesh filename="new5_objs/lid-1-225.obj" />
			</geometry>
		</collision>
		<collision>
			<origin xyz="0 0 0" />
			<geometry>
				<mesh filename="new5_objs/lid-1-226.obj" />
			</geometry>
		</collision>
		<collision>
			<origin xyz="0 0 0" />
			<geometry>
				<mesh filename="new5_objs/lid-1-227.obj" />
			</geometry>
		</collision>
		<collision>
			<origin xyz="0 0 0" />
			<geometry>
				<mesh filename="new5_objs/lid-1-228.obj" />
			</geometry>
		</collision>
		<collision>
			<origin xyz="0 0 0" />
			<geometry>
				<mesh filename="new5_objs/lid-1-229.obj" />
			</geometry>
		</collision>
		<collision>
			<origin xyz="0 0 0" />
			<geometry>
				<mesh filename="new5_objs/lid-1-230.obj" />
			</geometry>
		</collision>
		<collision>
			<origin xyz="0 0 0" />
			<geometry>
				<mesh filename="new5_objs/lid-1-231.obj" />
			</geometry>
		</collision>
		<collision>
			<origin xyz="0 0 0" />
			<geometry>
				<mesh filename="new5_objs/lid-1-232.obj" />
			</geometry>
		</collision>
		<visual name="lid-1">
			<origin xyz="0 0 0" />
			<geometry>
				<mesh filename="textured_objs/original-8.obj" />
			</geometry>
		</visual>
		<visual name="lid-1">
			<origin xyz="0 0 0" />
			<geometry>
				<mesh filename="textured_objs/original-5.obj" />
			</geometry>
		</visual>
		<visual name="lid-1">
			<origin xyz="0 0 0" />
			<geometry>
				<mesh filename="textured_objs/original-6.obj" />
			</geometry>
		</visual>
		</link>
	<joint name="joint_0" type="prismatic">
		<origin xyz="0 0 0" />
		<axis xyz="0 1 0" />
		<child link="link_0" />
		<parent link="link_1" />
		<limit lower="0" upper="0.05" />
	</joint>
	<link name="link_1">
		<collision>
			<origin xyz="0 0 0" />
			<geometry>
				<mesh filename="new5_objs/base_body-2-0.obj" />
			</geometry>
		</collision>
		<collision>
			<origin xyz="0 0 0" />
			<geometry>
				<mesh filename="new5_objs/base_body-2-1.obj" />
			</geometry>
		</collision>
		<collision>
			<origin xyz="0 0 0" />
			<geometry>
				<mesh filename="new5_objs/base_body-2-2.obj" />
			</geometry>
		</collision>
		<collision>
			<origin xyz="0 0 0" />
			<geometry>
				<mesh filename="new5_objs/base_body-2-3.obj" />
			</geometry>
		</collision>
		<collision>
			<origin xyz="0 0 0" />
			<geometry>
				<mesh filename="new5_objs/base_body-2-4.obj" />
			</geometry>
		</collision>
		<collision>
			<origin xyz="0 0 0" />
			<geometry>
				<mesh filename="new5_objs/base_body-2-5.obj" />
			</geometry>
		</collision>
		<collision>
			<origin xyz="0 0 0" />
			<geometry>
				<mesh filename="new5_objs/base_body-2-6.obj" />
			</geometry>
		</collision>
		<collision>
			<origin xyz="0 0 0" />
			<geometry>
				<mesh filename="new5_objs/base_body-2-7.obj" />
			</geometry>
		</collision>
		<collision>
			<origin xyz="0 0 0" />
			<geometry>
				<mesh filename="new5_objs/base_body-2-8.obj" />
			</geometry>
		</collision>
		<collision>
			<origin xyz="0 0 0" />
			<geometry>
				<mesh filename="new5_objs/base_body-2-9.obj" />
			</geometry>
		</collision>
		<collision>
			<origin xyz="0 0 0" />
			<geometry>
				<mesh filename="new5_objs/base_body-2-10.obj" />
			</geometry>
		</collision>
		<collision>
			<origin xyz="0 0 0" />
			<geometry>
				<mesh filename="new5_objs/base_body-2-11.obj" />
			</geometry>
		</collision>
		<collision>
			<origin xyz="0 0 0" />
			<geometry>
				<mesh filename="new5_objs/base_body-2-12.obj" />
			</geometry>
		</collision>
		<collision>
			<origin xyz="0 0 0" />
			<geometry>
				<mesh filename="new5_objs/base_body-2-13.obj" />
			</geometry>
		</collision>
		<collision>
			<origin xyz="0 0 0" />
			<geometry>
				<mesh filename="new5_objs/base_body-2-14.obj" />
			</geometry>
		</collision>
		<collision>
			<origin xyz="0 0 0" />
			<geometry>
				<mesh filename="new5_objs/base_body-2-15.obj" />
			</geometry>
		</collision>
		<collision>
			<origin xyz="0 0 0" />
			<geometry>
				<mesh filename="new5_objs/base_body-2-16.obj" />
			</geometry>
		</collision>
		<collision>
			<origin xyz="0 0 0" />
			<geometry>
				<mesh filename="new5_objs/base_body-2-17.obj" />
			</geometry>
		</collision>
		<collision>
			<origin xyz="0 0 0" />
			<geometry>
				<mesh filename="new5_objs/base_body-2-18.obj" />
			</geometry>
		</collision>
		<collision>
			<origin xyz="0 0 0" />
			<geometry>
				<mesh filename="new5_objs/base_body-2-19.obj" />
			</geometry>
		</collision>
		<collision>
			<origin xyz="0 0 0" />
			<geometry>
				<mesh filename="new5_objs/base_body-2-20.obj" />
			</geometry>
		</collision>
		<collision>
			<origin xyz="0 0 0" />
			<geometry>
				<mesh filename="new5_objs/base_body-2-21.obj" />
			</geometry>
		</collision>
		<collision>
			<origin xyz="0 0 0" />
			<geometry>
				<mesh filename="new5_objs/base_body-2-22.obj" />
			</geometry>
		</collision>
		<collision>
			<origin xyz="0 0 0" />
			<geometry>
				<mesh filename="new5_objs/base_body-2-23.obj" />
			</geometry>
		</collision>
		<collision>
			<origin xyz="0 0 0" />
			<geometry>
				<mesh filename="new5_objs/base_body-2-24.obj" />
			</geometry>
		</collision>
		<collision>
			<origin xyz="0 0 0" />
			<geometry>
				<mesh filename="new5_objs/base_body-2-25.obj" />
			</geometry>
		</collision>
		<collision>
			<origin xyz="0 0 0" />
			<geometry>
				<mesh filename="new5_objs/base_body-2-26.obj" />
			</geometry>
		</collision>
		<collision>
			<origin xyz="0 0 0" />
			<geometry>
				<mesh filename="new5_objs/base_body-2-27.obj" />
			</geometry>
		</collision>
		<collision>
			<origin xyz="0 0 0" />
			<geometry>
				<mesh filename="new5_objs/base_body-2-28.obj" />
			</geometry>
		</collision>
		<collision>
			<origin xyz="0 0 0" />
			<geometry>
				<mesh filename="new5_objs/base_body-2-29.obj" />
			</geometry>
		</collision>
		<collision>
			<origin xyz="0 0 0" />
			<geometry>
				<mesh filename="new5_objs/base_body-2-30.obj" />
			</geometry>
		</collision>
		<collision>
			<origin xyz="0 0 0" />
			<geometry>
				<mesh filename="new5_objs/base_body-2-31.obj" />
			</geometry>
		</collision>
		<collision>
			<origin xyz="0 0 0" />
			<geometry>
				<mesh filename="new5_objs/base_body-2-32.obj" />
			</geometry>
		</collision>
		<collision>
			<origin xyz="0 0 0" />
			<geometry>
				<mesh filename="new5_objs/base_body-2-33.obj" />
			</geometry>
		</collision>
		<collision>
			<origin xyz="0 0 0" />
			<geometry>
				<mesh filename="new5_objs/base_body-2-34.obj" />
			</geometry>
		</collision>
		<collision>
			<origin xyz="0 0 0" />
			<geometry>
				<mesh filename="new5_objs/base_body-2-35.obj" />
			</geometry>
		</collision>
		<collision>
			<origin xyz="0 0 0" />
			<geometry>
				<mesh filename="new5_objs/base_body-2-36.obj" />
			</geometry>
		</collision>
		<collision>
			<origin xyz="0 0 0" />
			<geometry>
				<mesh filename="new5_objs/base_body-2-37.obj" />
			</geometry>
		</collision>
		<collision>
			<origin xyz="0 0 0" />
			<geometry>
				<mesh filename="new5_objs/base_body-2-38.obj" />
			</geometry>
		</collision>
		<collision>
			<origin xyz="0 0 0" />
			<geometry>
				<mesh filename="new5_objs/base_body-2-39.obj" />
			</geometry>
		</collision>
		<collision>
			<origin xyz="0 0 0" />
			<geometry>
				<mesh filename="new5_objs/base_body-2-40.obj" />
			</geometry>
		</collision>
		<collision>
			<origin xyz="0 0 0" />
			<geometry>
				<mesh filename="new5_objs/base_body-2-41.obj" />
			</geometry>
		</collision>
		<collision>
			<origin xyz="0 0 0" />
			<geometry>
				<mesh filename="new5_objs/base_body-2-42.obj" />
			</geometry>
		</collision>
		<collision>
			<origin xyz="0 0 0" />
			<geometry>
				<mesh filename="new5_objs/base_body-2-43.obj" />
			</geometry>
		</collision>
		<collision>
			<origin xyz="0 0 0" />
			<geometry>
				<mesh filename="new5_objs/base_body-2-44.obj" />
			</geometry>
		</collision>
		<collision>
			<origin xyz="0 0 0" />
			<geometry>
				<mesh filename="new5_objs/base_body-2-45.obj" />
			</geometry>
		</collision>
		<collision>
			<origin xyz="0 0 0" />
			<geometry>
				<mesh filename="new5_objs/base_body-2-46.obj" />
			</geometry>
		</collision>
		<collision>
			<origin xyz="0 0 0" />
			<geometry>
				<mesh filename="new5_objs/base_body-2-47.obj" />
			</geometry>
		</collision>
		<collision>
			<origin xyz="0 0 0" />
			<geometry>
				<mesh filename="new5_objs/base_body-2-48.obj" />
			</geometry>
		</collision>
		<collision>
			<origin xyz="0 0 0" />
			<geometry>
				<mesh filename="new5_objs/base_body-2-49.obj" />
			</geometry>
		</collision>
		<collision>
			<origin xyz="0 0 0" />
			<geometry>
				<mesh filename="new5_objs/base_body-2-50.obj" />
			</geometry>
		</collision>
		<collision>
			<origin xyz="0 0 0" />
			<geometry>
				<mesh filename="new5_objs/base_body-2-51.obj" />
			</geometry>
		</collision>
		<collision>
			<origin xyz="0 0 0" />
			<geometry>
				<mesh filename="new5_objs/base_body-2-52.obj" />
			</geometry>
		</collision>
		<collision>
			<origin xyz="0 0 0" />
			<geometry>
				<mesh filename="new5_objs/base_body-2-53.obj" />
			</geometry>
		</collision>
		<collision>
			<origin xyz="0 0 0" />
			<geometry>
				<mesh filename="new5_objs/base_body-2-54.obj" />
			</geometry>
		</collision>
		<collision>
			<origin xyz="0 0 0" />
			<geometry>
				<mesh filename="new5_objs/base_body-2-55.obj" />
			</geometry>
		</collision>
		<collision>
			<origin xyz="0 0 0" />
			<geometry>
				<mesh filename="new5_objs/base_body-2-56.obj" />
			</geometry>
		</collision>
		<collision>
			<origin xyz="0 0 0" />
			<geometry>
				<mesh filename="new5_objs/base_body-2-57.obj" />
			</geometry>
		</collision>
		<collision>
			<origin xyz="0 0 0" />
			<geometry>
				<mesh filename="new5_objs/base_body-2-58.obj" />
			</geometry>
		</collision>
		<collision>
			<origin xyz="0 0 0" />
			<geometry>
				<mesh filename="new5_objs/base_body-2-59.obj" />
			</geometry>
		</collision>
		<collision>
			<origin xyz="0 0 0" />
			<geometry>
				<mesh filename="new5_objs/base_body-2-60.obj" />
			</geometry>
		</collision>
		<collision>
			<origin xyz="0 0 0" />
			<geometry>
				<mesh filename="new5_objs/base_body-2-61.obj" />
			</geometry>
		</collision>
		<collision>
			<origin xyz="0 0 0" />
			<geometry>
				<mesh filename="new5_objs/base_body-2-62.obj" />
			</geometry>
		</collision>
		<collision>
			<origin xyz="0 0 0" />
			<geometry>
				<mesh filename="new5_objs/base_body-2-63.obj" />
			</geometry>
		</collision>
		<collision>
			<origin xyz="0 0 0" />
			<geometry>
				<mesh filename="new5_objs/base_body-2-64.obj" />
			</geometry>
		</collision>
		<collision>
			<origin xyz="0 0 0" />
			<geometry>
				<mesh filename="new5_objs/base_body-2-65.obj" />
			</geometry>
		</collision>
		<collision>
			<origin xyz="0 0 0" />
			<geometry>
				<mesh filename="new5_objs/base_body-2-66.obj" />
			</geometry>
		</collision>
		<collision>
			<origin xyz="0 0 0" />
			<geometry>
				<mesh filename="new5_objs/base_body-2-67.obj" />
			</geometry>
		</collision>
		<collision>
			<origin xyz="0 0 0" />
			<geometry>
				<mesh filename="new5_objs/base_body-2-68.obj" />
			</geometry>
		</collision>
		<collision>
			<origin xyz="0 0 0" />
			<geometry>
				<mesh filename="new5_objs/base_body-2-69.obj" />
			</geometry>
		</collision>
		<collision>
			<origin xyz="0 0 0" />
			<geometry>
				<mesh filename="new5_objs/base_body-2-70.obj" />
			</geometry>
		</collision>
		<collision>
			<origin xyz="0 0 0" />
			<geometry>
				<mesh filename="new5_objs/base_body-2-71.obj" />
			</geometry>
		</collision>
		<collision>
			<origin xyz="0 0 0" />
			<geometry>
				<mesh filename="new5_objs/base_body-2-72.obj" />
			</geometry>
		</collision>
		<collision>
			<origin xyz="0 0 0" />
			<geometry>
				<mesh filename="new5_objs/base_body-2-73.obj" />
			</geometry>
		</collision>
		<collision>
			<origin xyz="0 0 0" />
			<geometry>
				<mesh filename="new5_objs/base_body-2-74.obj" />
			</geometry>
		</collision>
		<collision>
			<origin xyz="0 0 0" />
			<geometry>
				<mesh filename="new5_objs/base_body-2-75.obj" />
			</geometry>
		</collision>
		<collision>
			<origin xyz="0 0 0" />
			<geometry>
				<mesh filename="new5_objs/base_body-2-76.obj" />
			</geometry>
		</collision>
		<collision>
			<origin xyz="0 0 0" />
			<geometry>
				<mesh filename="new5_objs/base_body-2-77.obj" />
			</geometry>
		</collision>
		<collision>
			<origin xyz="0 0 0" />
			<geometry>
				<mesh filename="new5_objs/base_body-2-78.obj" />
			</geometry>
		</collision>
		<collision>
			<origin xyz="0 0 0" />
			<geometry>
				<mesh filename="new5_objs/base_body-2-79.obj" />
			</geometry>
		</collision>
		<collision>
			<origin xyz="0 0 0" />
			<geometry>
				<mesh filename="new5_objs/base_body-2-80.obj" />
			</geometry>
		</collision>
		<collision>
			<origin xyz="0 0 0" />
			<geometry>
				<mesh filename="new5_objs/base_body-2-81.obj" />
			</geometry>
		</collision>
		<collision>
			<origin xyz="0 0 0" />
			<geometry>
				<mesh filename="new5_objs/base_body-2-82.obj" />
			</geometry>
		</collision>
		<collision>
			<origin xyz="0 0 0" />
			<geometry>
				<mesh filename="new5_objs/base_body-2-83.obj" />
			</geometry>
		</collision>
		<collision>
			<origin xyz="0 0 0" />
			<geometry>
				<mesh filename="new5_objs/base_body-2-84.obj" />
			</geometry>
		</collision>
		<collision>
			<origin xyz="0 0 0" />
			<geometry>
				<mesh filename="new5_objs/base_body-2-85.obj" />
			</geometry>
		</collision>
		<collision>
			<origin xyz="0 0 0" />
			<geometry>
				<mesh filename="new5_objs/base_body-2-86.obj" />
			</geometry>
		</collision>
		<collision>
			<origin xyz="0 0 0" />
			<geometry>
				<mesh filename="new5_objs/base_body-2-87.obj" />
			</geometry>
		</collision>
		<collision>
			<origin xyz="0 0 0" />
			<geometry>
				<mesh filename="new5_objs/base_body-2-88.obj" />
			</geometry>
		</collision>
		<collision>
			<origin xyz="0 0 0" />
			<geometry>
				<mesh filename="new5_objs/base_body-2-89.obj" />
			</geometry>
		</collision>
		<collision>
			<origin xyz="0 0 0" />
			<geometry>
				<mesh filename="new5_objs/base_body-2-90.obj" />
			</geometry>
		</collision>
		<collision>
			<origin xyz="0 0 0" />
			<geometry>
				<mesh filename="new5_objs/base_body-2-91.obj" />
			</geometry>
		</collision>
		<collision>
			<origin xyz="0 0 0" />
			<geometry>
				<mesh filename="new5_objs/base_body-2-92.obj" />
			</geometry>
		</collision>
		<collision>
			<origin xyz="0 0 0" />
			<geometry>
				<mesh filename="new5_objs/base_body-2-93.obj" />
			</geometry>
		</collision>
		<collision>
			<origin xyz="0 0 0" />
			<geometry>
				<mesh filename="new5_objs/base_body-2-94.obj" />
			</geometry>
		</collision>
		<collision>
			<origin xyz="0 0 0" />
			<geometry>
				<mesh filename="new5_objs/base_body-2-95.obj" />
			</geometry>
		</collision>
		<collision>
			<origin xyz="0 0 0" />
			<geometry>
				<mesh filename="new5_objs/base_body-2-96.obj" />
			</geometry>
		</collision>
		<collision>
			<origin xyz="0 0 0" />
			<geometry>
				<mesh filename="new5_objs/base_body-2-97.obj" />
			</geometry>
		</collision>
		<collision>
			<origin xyz="0 0 0" />
			<geometry>
				<mesh filename="new5_objs/base_body-2-98.obj" />
			</geometry>
		</collision>
		<collision>
			<origin xyz="0 0 0" />
			<geometry>
				<mesh filename="new5_objs/base_body-2-99.obj" />
			</geometry>
		</collision>
		<collision>
			<origin xyz="0 0 0" />
			<geometry>
				<mesh filename="new5_objs/base_body-2-100.obj" />
			</geometry>
		</collision>
		<collision>
			<origin xyz="0 0 0" />
			<geometry>
				<mesh filename="new5_objs/base_body-2-101.obj" />
			</geometry>
		</collision>
		<collision>
			<origin xyz="0 0 0" />
			<geometry>
				<mesh filename="new5_objs/base_body-2-102.obj" />
			</geometry>
		</collision>
		<collision>
			<origin xyz="0 0 0" />
			<geometry>
				<mesh filename="new5_objs/base_body-2-103.obj" />
			</geometry>
		</collision>
		<collision>
			<origin xyz="0 0 0" />
			<geometry>
				<mesh filename="new5_objs/base_body-2-104.obj" />
			</geometry>
		</collision>
		<collision>
			<origin xyz="0 0 0" />
			<geometry>
				<mesh filename="new5_objs/base_body-2-105.obj" />
			</geometry>
		</collision>
		<collision>
			<origin xyz="0 0 0" />
			<geometry>
				<mesh filename="new5_objs/base_body-2-106.obj" />
			</geometry>
		</collision>
		<collision>
			<origin xyz="0 0 0" />
			<geometry>
				<mesh filename="new5_objs/base_body-2-107.obj" />
			</geometry>
		</collision>
		<collision>
			<origin xyz="0 0 0" />
			<geometry>
				<mesh filename="new5_objs/base_body-2-108.obj" />
			</geometry>
		</collision>
		<collision>
			<origin xyz="0 0 0" />
			<geometry>
				<mesh filename="new5_objs/base_body-2-109.obj" />
			</geometry>
		</collision>
		<collision>
			<origin xyz="0 0 0" />
			<geometry>
				<mesh filename="new5_objs/base_body-2-110.obj" />
			</geometry>
		</collision>
		<collision>
			<origin xyz="0 0 0" />
			<geometry>
				<mesh filename="new5_objs/base_body-2-111.obj" />
			</geometry>
		</collision>
		<collision>
			<origin xyz="0 0 0" />
			<geometry>
				<mesh filename="new5_objs/base_body-2-112.obj" />
			</geometry>
		</collision>
		<collision>
			<origin xyz="0 0 0" />
			<geometry>
				<mesh filename="new5_objs/base_body-2-113.obj" />
			</geometry>
		</collision>
		<collision>
			<origin xyz="0 0 0" />
			<geometry>
				<mesh filename="new5_objs/base_body-2-114.obj" />
			</geometry>
		</collision>
		<collision>
			<origin xyz="0 0 0" />
			<geometry>
				<mesh filename="new5_objs/base_body-2-115.obj" />
			</geometry>
		</collision>
		<collision>
			<origin xyz="0 0 0" />
			<geometry>
				<mesh filename="new5_objs/base_body-2-116.obj" />
			</geometry>
		</collision>
		<collision>
			<origin xyz="0 0 0" />
			<geometry>
				<mesh filename="new5_objs/base_body-2-117.obj" />
			</geometry>
		</collision>
		<collision>
			<origin xyz="0 0 0" />
			<geometry>
				<mesh filename="new5_objs/base_body-2-118.obj" />
			</geometry>
		</collision>
		<collision>
			<origin xyz="0 0 0" />
			<geometry>
				<mesh filename="new5_objs/base_body-2-119.obj" />
			</geometry>
		</collision>
		<collision>
			<origin xyz="0 0 0" />
			<geometry>
				<mesh filename="new5_objs/base_body-2-120.obj" />
			</geometry>
		</collision>
		<collision>
			<origin xyz="0 0 0" />
			<geometry>
				<mesh filename="new5_objs/base_body-2-121.obj" />
			</geometry>
		</collision>
		<collision>
			<origin xyz="0 0 0" />
			<geometry>
				<mesh filename="new5_objs/base_body-2-122.obj" />
			</geometry>
		</collision>
		<collision>
			<origin xyz="0 0 0" />
			<geometry>
				<mesh filename="new5_objs/base_body-2-123.obj" />
			</geometry>
		</collision>
		<collision>
			<origin xyz="0 0 0" />
			<geometry>
				<mesh filename="new5_objs/base_body-2-124.obj" />
			</geometry>
		</collision>
		<collision>
			<origin xyz="0 0 0" />
			<geometry>
				<mesh filename="new5_objs/base_body-2-125.obj" />
			</geometry>
		</collision>
		<collision>
			<origin xyz="0 0 0" />
			<geometry>
				<mesh filename="new5_objs/base_body-2-126.obj" />
			</geometry>
		</collision>
		<collision>
			<origin xyz="0 0 0" />
			<geometry>
				<mesh filename="new5_objs/base_body-2-127.obj" />
			</geometry>
		</collision>
		<collision>
			<origin xyz="0 0 0" />
			<geometry>
				<mesh filename="new5_objs/base_body-2-128.obj" />
			</geometry>
		</collision>
		<collision>
			<origin xyz="0 0 0" />
			<geometry>
				<mesh filename="new5_objs/base_body-2-129.obj" />
			</geometry>
		</collision>
		<collision>
			<origin xyz="0 0 0" />
			<geometry>
				<mesh filename="new5_objs/base_body-2-130.obj" />
			</geometry>
		</collision>
		<collision>
			<origin xyz="0 0 0" />
			<geometry>
				<mesh filename="new5_objs/base_body-2-131.obj" />
			</geometry>
		</collision>
		<collision>
			<origin xyz="0 0 0" />
			<geometry>
				<mesh filename="new5_objs/base_body-2-132.obj" />
			</geometry>
		</collision>
		<collision>
			<origin xyz="0 0 0" />
			<geometry>
				<mesh filename="new5_objs/base_body-2-133.obj" />
			</geometry>
		</collision>
		<collision>
			<origin xyz="0 0 0" />
			<geometry>
				<mesh filename="new5_objs/base_body-2-134.obj" />
			</geometry>
		</collision>
		<collision>
			<origin xyz="0 0 0" />
			<geometry>
				<mesh filename="new5_objs/base_body-2-135.obj" />
			</geometry>
		</collision>
		<collision>
			<origin xyz="0 0 0" />
			<geometry>
				<mesh filename="new5_objs/base_body-2-136.obj" />
			</geometry>
		</collision>
		<collision>
			<origin xyz="0 0 0" />
			<geometry>
				<mesh filename="new5_objs/base_body-2-137.obj" />
			</geometry>
		</collision>
		<collision>
			<origin xyz="0 0 0" />
			<geometry>
				<mesh filename="new5_objs/base_body-2-138.obj" />
			</geometry>
		</collision>
		<collision>
			<origin xyz="0 0 0" />
			<geometry>
				<mesh filename="new5_objs/base_body-2-139.obj" />
			</geometry>
		</collision>
		<collision>
			<origin xyz="0 0 0" />
			<geometry>
				<mesh filename="new5_objs/base_body-2-140.obj" />
			</geometry>
		</collision>
		<collision>
			<origin xyz="0 0 0" />
			<geometry>
				<mesh filename="new5_objs/base_body-2-141.obj" />
			</geometry>
		</collision>
		<collision>
			<origin xyz="0 0 0" />
			<geometry>
				<mesh filename="new5_objs/base_body-2-142.obj" />
			</geometry>
		</collision>
		<collision>
			<origin xyz="0 0 0" />
			<geometry>
				<mesh filename="new5_objs/base_body-2-143.obj" />
			</geometry>
		</collision>
		<collision>
			<origin xyz="0 0 0" />
			<geometry>
				<mesh filename="new5_objs/base_body-2-144.obj" />
			</geometry>
		</collision>
		<collision>
			<origin xyz="0 0 0" />
			<geometry>
				<mesh filename="new5_objs/base_body-2-145.obj" />
			</geometry>
		</collision>
		<collision>
			<origin xyz="0 0 0" />
			<geometry>
				<mesh filename="new5_objs/base_body-2-146.obj" />
			</geometry>
		</collision>
		<collision>
			<origin xyz="0 0 0" />
			<geometry>
				<mesh filename="new5_objs/base_body-2-147.obj" />
			</geometry>
		</collision>
		<collision>
			<origin xyz="0 0 0" />
			<geometry>
				<mesh filename="new5_objs/base_body-2-148.obj" />
			</geometry>
		</collision>
		<collision>
			<origin xyz="0 0 0" />
			<geometry>
				<mesh filename="new5_objs/base_body-2-149.obj" />
			</geometry>
		</collision>
		<collision>
			<origin xyz="0 0 0" />
			<geometry>
				<mesh filename="new5_objs/base_body-2-150.obj" />
			</geometry>
		</collision>
		<collision>
			<origin xyz="0 0 0" />
			<geometry>
				<mesh filename="new5_objs/base_body-2-151.obj" />
			</geometry>
		</collision>
		<collision>
			<origin xyz="0 0 0" />
			<geometry>
				<mesh filename="new5_objs/base_body-2-152.obj" />
			</geometry>
		</collision>
		<collision>
			<origin xyz="0 0 0" />
			<geometry>
				<mesh filename="new5_objs/base_body-2-153.obj" />
			</geometry>
		</collision>
		<collision>
			<origin xyz="0 0 0" />
			<geometry>
				<mesh filename="new5_objs/base_body-2-154.obj" />
			</geometry>
		</collision>
		<collision>
			<origin xyz="0 0 0" />
			<geometry>
				<mesh filename="new5_objs/base_body-2-155.obj" />
			</geometry>
		</collision>
		<collision>
			<origin xyz="0 0 0" />
			<geometry>
				<mesh filename="new5_objs/base_body-2-156.obj" />
			</geometry>
		</collision>
		<collision>
			<origin xyz="0 0 0" />
			<geometry>
				<mesh filename="new5_objs/base_body-2-157.obj" />
			</geometry>
		</collision>
		<collision>
			<origin xyz="0 0 0" />
			<geometry>
				<mesh filename="new5_objs/base_body-2-158.obj" />
			</geometry>
		</collision>
		<collision>
			<origin xyz="0 0 0" />
			<geometry>
				<mesh filename="new5_objs/base_body-2-159.obj" />
			</geometry>
		</collision>
		<collision>
			<origin xyz="0 0 0" />
			<geometry>
				<mesh filename="new5_objs/base_body-2-160.obj" />
			</geometry>
		</collision>
		<collision>
			<origin xyz="0 0 0" />
			<geometry>
				<mesh filename="new5_objs/base_body-2-161.obj" />
			</geometry>
		</collision>
		<collision>
			<origin xyz="0 0 0" />
			<geometry>
				<mesh filename="new5_objs/base_body-2-162.obj" />
			</geometry>
		</collision>
		<collision>
			<origin xyz="0 0 0" />
			<geometry>
				<mesh filename="new5_objs/base_body-2-163.obj" />
			</geometry>
		</collision>
		<collision>
			<origin xyz="0 0 0" />
			<geometry>
				<mesh filename="new5_objs/base_body-2-164.obj" />
			</geometry>
		</collision>
		<collision>
			<origin xyz="0 0 0" />
			<geometry>
				<mesh filename="new5_objs/base_body-2-165.obj" />
			</geometry>
		</collision>
		<collision>
			<origin xyz="0 0 0" />
			<geometry>
				<mesh filename="new5_objs/base_body-2-166.obj" />
			</geometry>
		</collision>
		<collision>
			<origin xyz="0 0 0" />
			<geometry>
				<mesh filename="new5_objs/base_body-2-167.obj" />
			</geometry>
		</collision>
		<collision>
			<origin xyz="0 0 0" />
			<geometry>
				<mesh filename="new5_objs/base_body-2-168.obj" />
			</geometry>
		</collision>
		<collision>
			<origin xyz="0 0 0" />
			<geometry>
				<mesh filename="new5_objs/base_body-2-169.obj" />
			</geometry>
		</collision>
		<collision>
			<origin xyz="0 0 0" />
			<geometry>
				<mesh filename="new5_objs/base_body-2-170.obj" />
			</geometry>
		</collision>
		<collision>
			<origin xyz="0 0 0" />
			<geometry>
				<mesh filename="new5_objs/base_body-2-171.obj" />
			</geometry>
		</collision>
		<collision>
			<origin xyz="0 0 0" />
			<geometry>
				<mesh filename="new5_objs/base_body-2-172.obj" />
			</geometry>
		</collision>
		<collision>
			<origin xyz="0 0 0" />
			<geometry>
				<mesh filename="new5_objs/base_body-2-173.obj" />
			</geometry>
		</collision>
		<collision>
			<origin xyz="0 0 0" />
			<geometry>
				<mesh filename="new5_objs/base_body-2-174.obj" />
			</geometry>
		</collision>
		<collision>
			<origin xyz="0 0 0" />
			<geometry>
				<mesh filename="new5_objs/base_body-2-175.obj" />
			</geometry>
		</collision>
		<collision>
			<origin xyz="0 0 0" />
			<geometry>
				<mesh filename="new5_objs/base_body-2-176.obj" />
			</geometry>
		</collision>
		<collision>
			<origin xyz="0 0 0" />
			<geometry>
				<mesh filename="new5_objs/base_body-2-177.obj" />
			</geometry>
		</collision>
		<collision>
			<origin xyz="0 0 0" />
			<geometry>
				<mesh filename="new5_objs/base_body-2-178.obj" />
			</geometry>
		</collision>
		<collision>
			<origin xyz="0 0 0" />
			<geometry>
				<mesh filename="new5_objs/base_body-2-179.obj" />
			</geometry>
		</collision>
		<collision>
			<origin xyz="0 0 0" />
			<geometry>
				<mesh filename="new5_objs/base_body-2-180.obj" />
			</geometry>
		</collision>
		<collision>
			<origin xyz="0 0 0" />
			<geometry>
				<mesh filename="new5_objs/base_body-2-181.obj" />
			</geometry>
		</collision>
		<collision>
			<origin xyz="0 0 0" />
			<geometry>
				<mesh filename="new5_objs/base_body-2-182.obj" />
			</geometry>
		</collision>
		<collision>
			<origin xyz="0 0 0" />
			<geometry>
				<mesh filename="new5_objs/base_body-2-183.obj" />
			</geometry>
		</collision>
		<collision>
			<origin xyz="0 0 0" />
			<geometry>
				<mesh filename="new5_objs/base_body-2-184.obj" />
			</geometry>
		</collision>
		<collision>
			<origin xyz="0 0 0" />
			<geometry>
				<mesh filename="new5_objs/base_body-2-185.obj" />
			</geometry>
		</collision>
		<collision>
			<origin xyz="0 0 0" />
			<geometry>
				<mesh filename="new5_objs/base_body-2-186.obj" />
			</geometry>
		</collision>
		<collision>
			<origin xyz="0 0 0" />
			<geometry>
				<mesh filename="new5_objs/base_body-2-187.obj" />
			</geometry>
		</collision>
		<collision>
			<origin xyz="0 0 0" />
			<geometry>
				<mesh filename="new5_objs/base_body-2-188.obj" />
			</geometry>
		</collision>
		<collision>
			<origin xyz="0 0 0" />
			<geometry>
				<mesh filename="new5_objs/base_body-2-189.obj" />
			</geometry>
		</collision>
		<collision>
			<origin xyz="0 0 0" />
			<geometry>
				<mesh filename="new5_objs/base_body-2-190.obj" />
			</geometry>
		</collision>
		<collision>
			<origin xyz="0 0 0" />
			<geometry>
				<mesh filename="new5_objs/base_body-2-191.obj" />
			</geometry>
		</collision>
		<collision>
			<origin xyz="0 0 0" />
			<geometry>
				<mesh filename="new5_objs/base_body-2-192.obj" />
			</geometry>
		</collision>
		<collision>
			<origin xyz="0 0 0" />
			<geometry>
				<mesh filename="new5_objs/base_body-2-193.obj" />
			</geometry>
		</collision>
		<collision>
			<origin xyz="0 0 0" />
			<geometry>
				<mesh filename="new5_objs/base_body-2-194.obj" />
			</geometry>
		</collision>
		<collision>
			<origin xyz="0 0 0" />
			<geometry>
				<mesh filename="new5_objs/base_body-2-195.obj" />
			</geometry>
		</collision>
		<collision>
			<origin xyz="0 0 0" />
			<geometry>
				<mesh filename="new5_objs/base_body-2-196.obj" />
			</geometry>
		</collision>
		<collision>
			<origin xyz="0 0 0" />
			<geometry>
				<mesh filename="new5_objs/base_body-2-197.obj" />
			</geometry>
		</collision>
		<collision>
			<origin xyz="0 0 0" />
			<geometry>
				<mesh filename="new5_objs/base_body-2-198.obj" />
			</geometry>
		</collision>
		<collision>
			<origin xyz="0 0 0" />
			<geometry>
				<mesh filename="new5_objs/base_body-2-199.obj" />
			</geometry>
		</collision>
		<collision>
			<origin xyz="0 0 0" />
			<geometry>
				<mesh filename="new5_objs/base_body-2-200.obj" />
			</geometry>
		</collision>
		<collision>
			<origin xyz="0 0 0" />
			<geometry>
				<mesh filename="new5_objs/base_body-2-201.obj" />
			</geometry>
		</collision>
		<collision>
			<origin xyz="0 0 0" />
			<geometry>
				<mesh filename="new5_objs/base_body-2-202.obj" />
			</geometry>
		</collision>
		<collision>
			<origin xyz="0 0 0" />
			<geometry>
				<mesh filename="new5_objs/base_body-2-203.obj" />
			</geometry>
		</collision>
		<collision>
			<origin xyz="0 0 0" />
			<geometry>
				<mesh filename="new5_objs/base_body-2-204.obj" />
			</geometry>
		</collision>
		<collision>
			<origin xyz="0 0 0" />
			<geometry>
				<mesh filename="new5_objs/base_body-2-205.obj" />
			</geometry>
		</collision>
		<collision>
			<origin xyz="0 0 0" />
			<geometry>
				<mesh filename="new5_objs/base_body-2-206.obj" />
			</geometry>
		</collision>
		<collision>
			<origin xyz="0 0 0" />
			<geometry>
				<mesh filename="new5_objs/base_body-2-207.obj" />
			</geometry>
		</collision>
		<collision>
			<origin xyz="0 0 0" />
			<geometry>
				<mesh filename="new5_objs/base_body-2-208.obj" />
			</geometry>
		</collision>
		<collision>
			<origin xyz="0 0 0" />
			<geometry>
				<mesh filename="new5_objs/base_body-2-209.obj" />
			</geometry>
		</collision>
		<collision>
			<origin xyz="0 0 0" />
			<geometry>
				<mesh filename="new5_objs/base_body-2-210.obj" />
			</geometry>
		</collision>
		<collision>
			<origin xyz="0 0 0" />
			<geometry>
				<mesh filename="new5_objs/base_body-2-211.obj" />
			</geometry>
		</collision>
		<collision>
			<origin xyz="0 0 0" />
			<geometry>
				<mesh filename="new5_objs/base_body-2-212.obj" />
			</geometry>
		</collision>
		<collision>
			<origin xyz="0 0 0" />
			<geometry>
				<mesh filename="new5_objs/base_body-2-213.obj" />
			</geometry>
		</collision>
		<collision>
			<origin xyz="0 0 0" />
			<geometry>
				<mesh filename="new5_objs/base_body-2-214.obj" />
			</geometry>
		</collision>
		<collision>
			<origin xyz="0 0 0" />
			<geometry>
				<mesh filename="new5_objs/base_body-2-215.obj" />
			</geometry>
		</collision>
		<collision>
			<origin xyz="0 0 0" />
			<geometry>
				<mesh filename="new5_objs/base_body-2-216.obj" />
			</geometry>
		</collision>
		<collision>
			<origin xyz="0 0 0" />
			<geometry>
				<mesh filename="new5_objs/base_body-2-217.obj" />
			</geometry>
		</collision>
		<collision>
			<origin xyz="0 0 0" />
			<geometry>
				<mesh filename="new5_objs/base_body-2-218.obj" />
			</geometry>
		</collision>
		<collision>
			<origin xyz="0 0 0" />
			<geometry>
				<mesh filename="new5_objs/base_body-2-219.obj" />
			</geometry>
		</collision>
		<collision>
			<origin xyz="0 0 0" />
			<geometry>
				<mesh filename="new5_objs/base_body-2-220.obj" />
			</geometry>
		</collision>
		<collision>
			<origin xyz="0 0 0" />
			<geometry>
				<mesh filename="new5_objs/base_body-2-221.obj" />
			</geometry>
		</collision>
		<collision>
			<origin xyz="0 0 0" />
			<geometry>
				<mesh filename="new5_objs/base_body-2-222.obj" />
			</geometry>
		</collision>
		<collision>
			<origin xyz="0 0 0" />
			<geometry>
				<mesh filename="new5_objs/base_body-2-223.obj" />
			</geometry>
		</collision>
		<collision>
			<origin xyz="0 0 0" />
			<geometry>
				<mesh filename="new5_objs/base_body-2-224.obj" />
			</geometry>
		</collision>
		<collision>
			<origin xyz="0 0 0" />
			<geometry>
				<mesh filename="new5_objs/base_body-2-225.obj" />
			</geometry>
		</collision>
		<collision>
			<origin xyz="0 0 0" />
			<geometry>
				<mesh filename="new5_objs/base_body-2-226.obj" />
			</geometry>
		</collision>
		<collision>
			<origin xyz="0 0 0" />
			<geometry>
				<mesh filename="new5_objs/base_body-2-227.obj" />
			</geometry>
		</collision>
		<collision>
			<origin xyz="0 0 0" />
			<geometry>
				<mesh filename="new5_objs/base_body-2-228.obj" />
			</geometry>
		</collision>
		<collision>
			<origin xyz="0 0 0" />
			<geometry>
				<mesh filename="new5_objs/base_body-2-229.obj" />
			</geometry>
		</collision>
		<visual name="base_body-2">
			<origin xyz="0 0 0" />
			<geometry>
				<mesh filename="textured_objs/original-2.obj" />
			</geometry>
		</visual>
		<visual name="base_body-2">
			<origin xyz="0 0 0" />
			<geometry>
				<mesh filename="textured_objs/original-7.obj" />
			</geometry>
		</visual>
		<visual name="base_body-2">
			<origin xyz="0 0 0" />
			<geometry>
				<mesh filename="textured_objs/original-1.obj" />
			</geometry>
		</visual>
		</link>
	<joint name="joint_1" type="fixed">
		<origin rpy="1.570796326794897 0 -1.570796326794897" xyz="0 0 0" />
		<child link="link_1" />
		<parent link="base" />
	</joint>
</robot>
